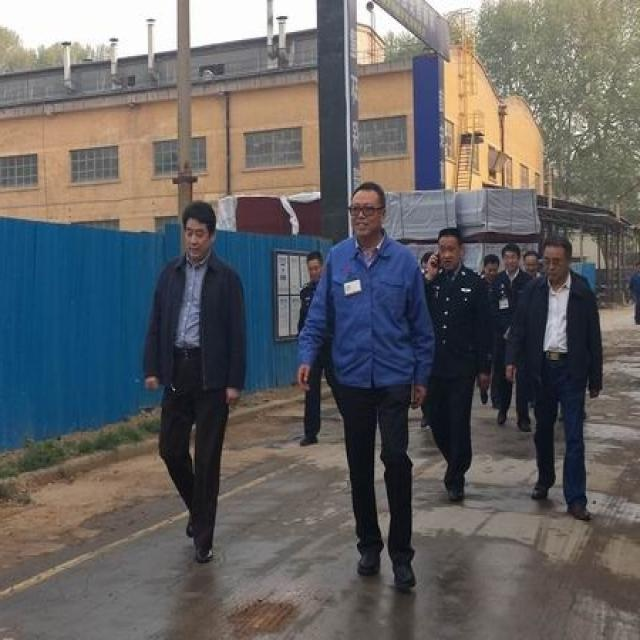Sin_Casco_Mascarrilla: (347, 179, 387, 238), (179, 200, 217, 260)
Sin_Chaleco: (325, 238, 418, 392)
